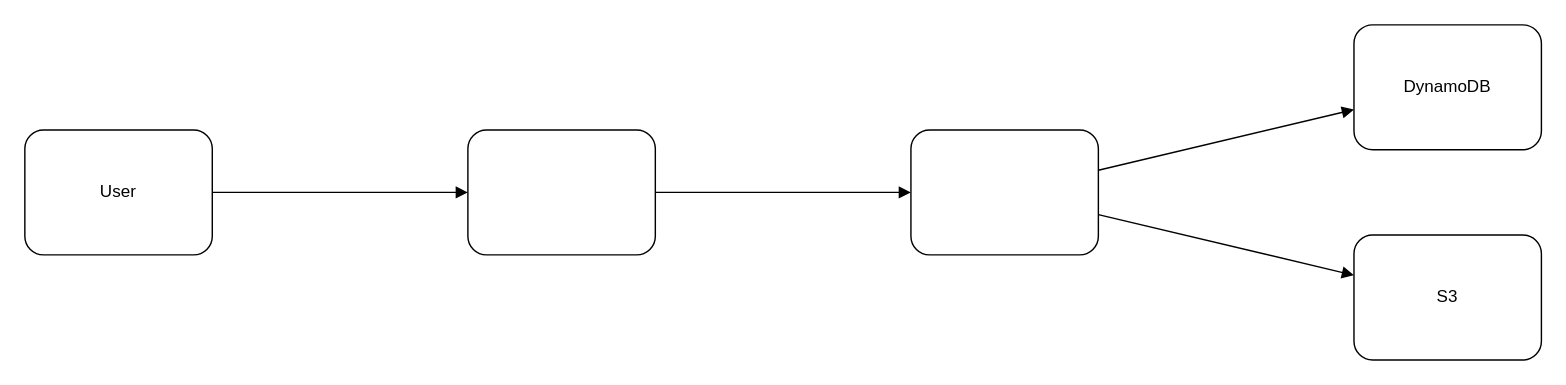
Image size: 1566x385. Some labels were removed from this diagram. Each missing label, with the centre of its shape:
"API Gateway" belongs at pixel 560 192.
"Lambda" belongs at pixel 1004 192.
